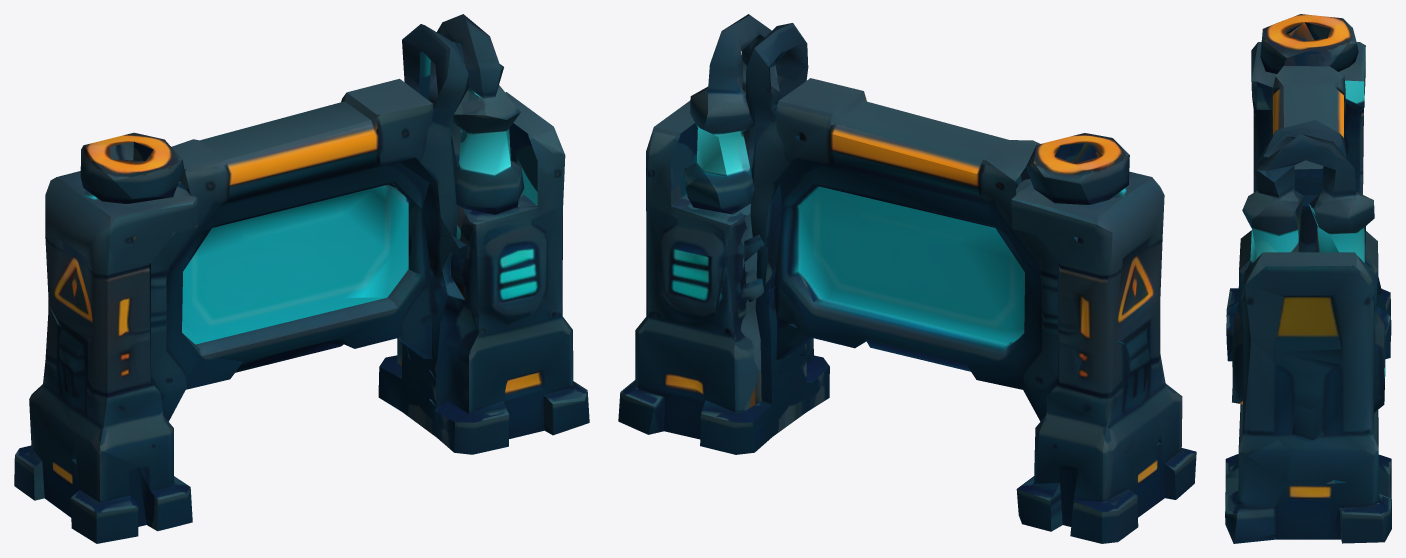
The model's file is Obs2.fbx.
3 renders of one model, left to right at view 1: azimuth 30°, elevation 25°; view 2: azimuth 150°, elevation 25°; view 3: azimuth 270°, elevation 25°, orthographic. The views are drawn at different scales.
Parts seen in each view (by area): view 1: tmp2tly1z2u.ply; view 2: tmp2tly1z2u.ply; view 3: tmp2tly1z2u.ply.
Boxes of the visible parts, x1,y1,x2,y2 form: tmp2tly1z2u.ply: (14, 14, 589, 543); tmp2tly1z2u.ply: (618, 14, 1196, 543); tmp2tly1z2u.ply: (1225, 14, 1391, 543).
Bounding box in the file's own units: 199 × 151 × 61.74.
1 material, 1 textured.
